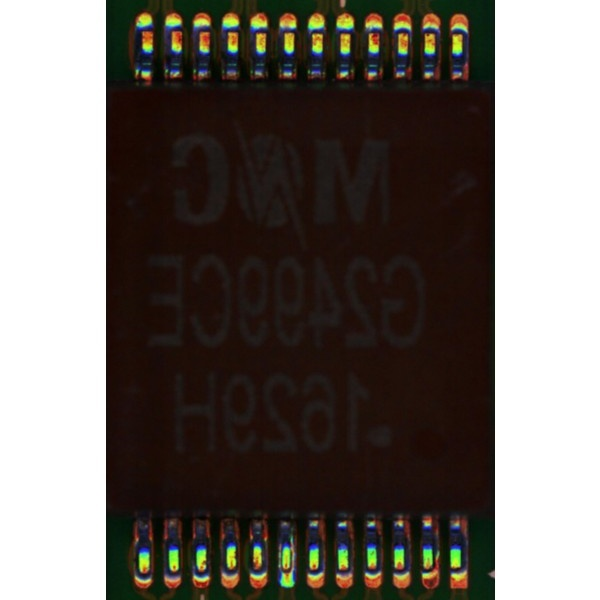Bad_podu: (282, 565, 291, 577)
Bad_qiaojiao: (277, 539, 282, 569), (291, 535, 295, 568)
